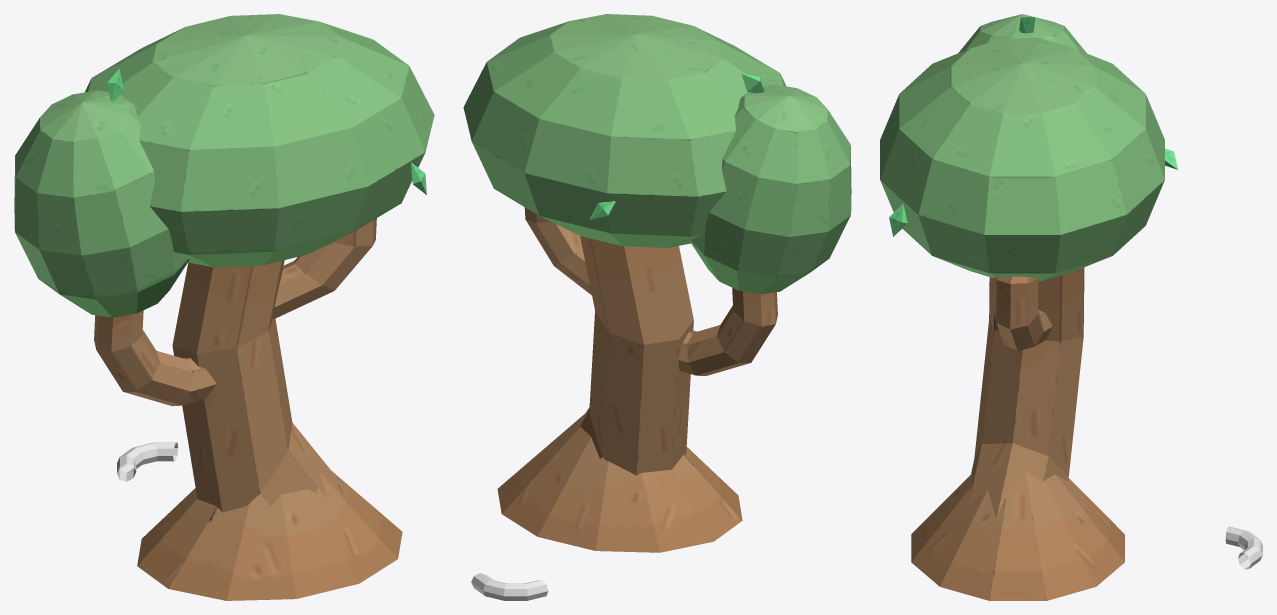
The model's file is Big tree.dae.
3 views of the same model, side by side, from view 1: azimuth 30°, elevation 25°; view 2: azimuth 150°, elevation 25°; view 3: azimuth 270°, elevation 25° (orthographic). The views are drawn at different scales.
Parts seen in each view (by area): view 1: sphere (×2), torus (×4), cone; view 2: sphere (×2), torus (×4), cone; view 3: sphere (×2), torus (×3), cone.
Part boxes in pixels (x1,y1,x2,y2): sphere (×2): (14,14,434,317); torus (×4): (94,218,376,520); cone: (137,471,402,600); sphere (×2): (463,14,851,294); torus (×4): (471,207,777,600); cone: (497,410,742,552); sphere (×2): (880,14,1164,281); torus (×3): (968,267,1262,569); cone: (911,471,1124,600).
Bounding box in the file's own units: 5.79 × 7.5 × 5.38.
12 materials, 12 textured.
